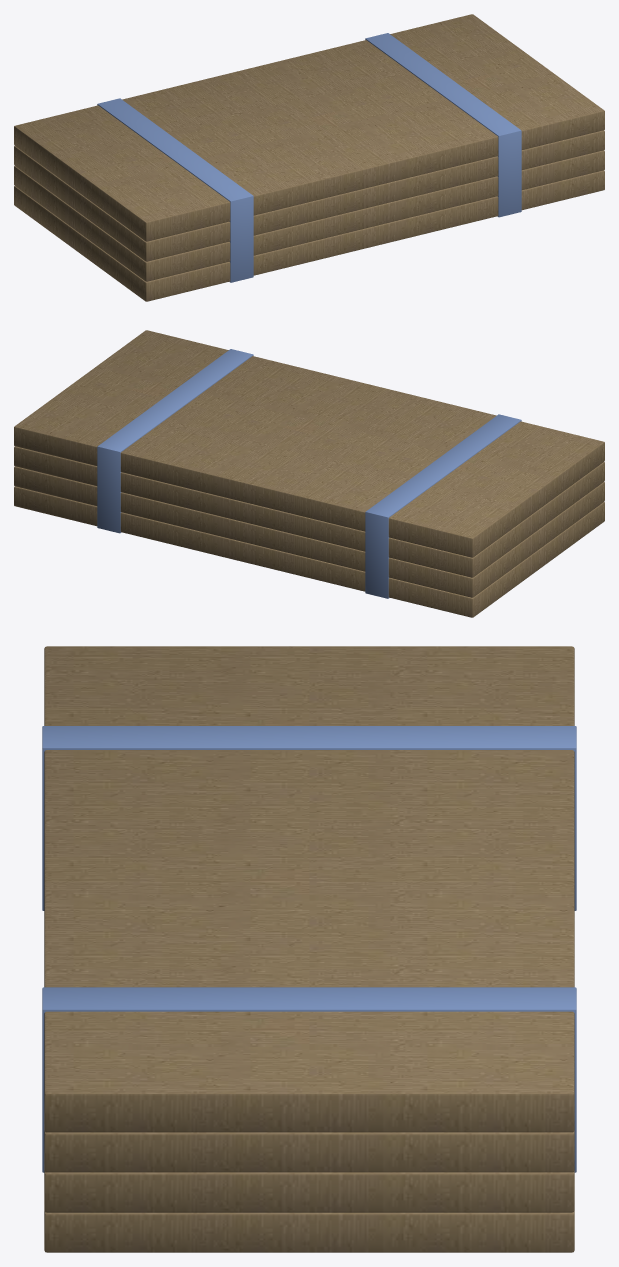
File: IMP-ISO-002_lod1.glb
3 renders of one model, top to bottom at view 1: azimuth 30°, elevation 25°; view 2: azimuth 150°, elevation 25°; view 3: azimuth 270°, elevation 25°, orthographic. The views are drawn at different scales.
Parts seen in each view (by area): view 1: IMP-ISO-002_placa3, IMP-ISO-002_placa1, IMP-ISO-002_placa2, IMP-ISO-002_placa0, IMP-ISO-002_cinta0.35, IMP-ISO-002_cinta-0.35; view 2: IMP-ISO-002_placa3, IMP-ISO-002_placa1, IMP-ISO-002_placa2, IMP-ISO-002_placa0, IMP-ISO-002_cinta0.35, IMP-ISO-002_cinta-0.35; view 3: IMP-ISO-002_placa3, IMP-ISO-002_placa0, IMP-ISO-002_placa2, IMP-ISO-002_placa1, IMP-ISO-002_cinta0.35, IMP-ISO-002_cinta-0.35.
Part boxes in pixels (bbox=[...]): IMP-ISO-002_placa3: bbox=[14, 14, 604, 241]; IMP-ISO-002_placa1: bbox=[14, 150, 604, 281]; IMP-ISO-002_placa2: bbox=[14, 130, 604, 261]; IMP-ISO-002_placa0: bbox=[14, 170, 604, 301]; IMP-ISO-002_cinta0.35: bbox=[365, 33, 521, 217]; IMP-ISO-002_cinta-0.35: bbox=[97, 98, 253, 282]; IMP-ISO-002_placa3: bbox=[14, 330, 604, 557]; IMP-ISO-002_placa1: bbox=[14, 466, 604, 597]; IMP-ISO-002_placa2: bbox=[14, 446, 604, 577]; IMP-ISO-002_placa0: bbox=[14, 486, 604, 617]; IMP-ISO-002_cinta0.35: bbox=[97, 349, 253, 533]; IMP-ISO-002_cinta-0.35: bbox=[365, 414, 521, 598]; IMP-ISO-002_placa3: bbox=[44, 646, 574, 1132]; IMP-ISO-002_placa0: bbox=[44, 1211, 574, 1252]; IMP-ISO-002_placa2: bbox=[44, 1130, 574, 1172]; IMP-ISO-002_placa1: bbox=[44, 1170, 574, 1212]; IMP-ISO-002_cinta0.35: bbox=[42, 987, 576, 1172]; IMP-ISO-002_cinta-0.35: bbox=[42, 726, 576, 910].
Bounding box in the file's own units: 1.2 × 0.204 × 0.604.
Materials: 2 (1 with a texture image).
